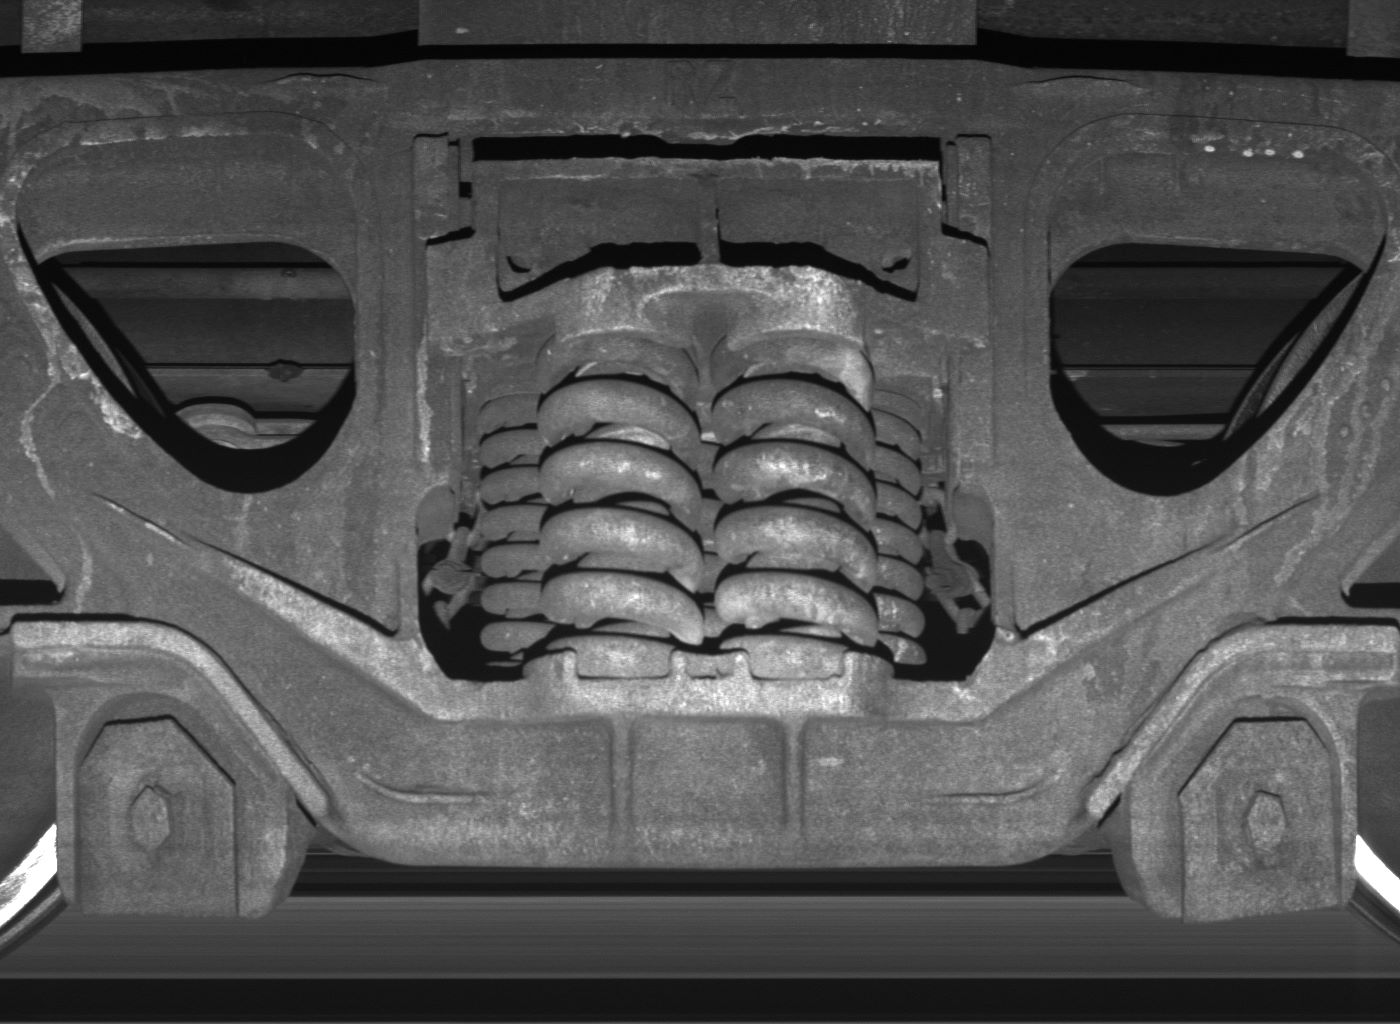normal: (1132, 695, 1354, 925), (57, 692, 283, 913)
